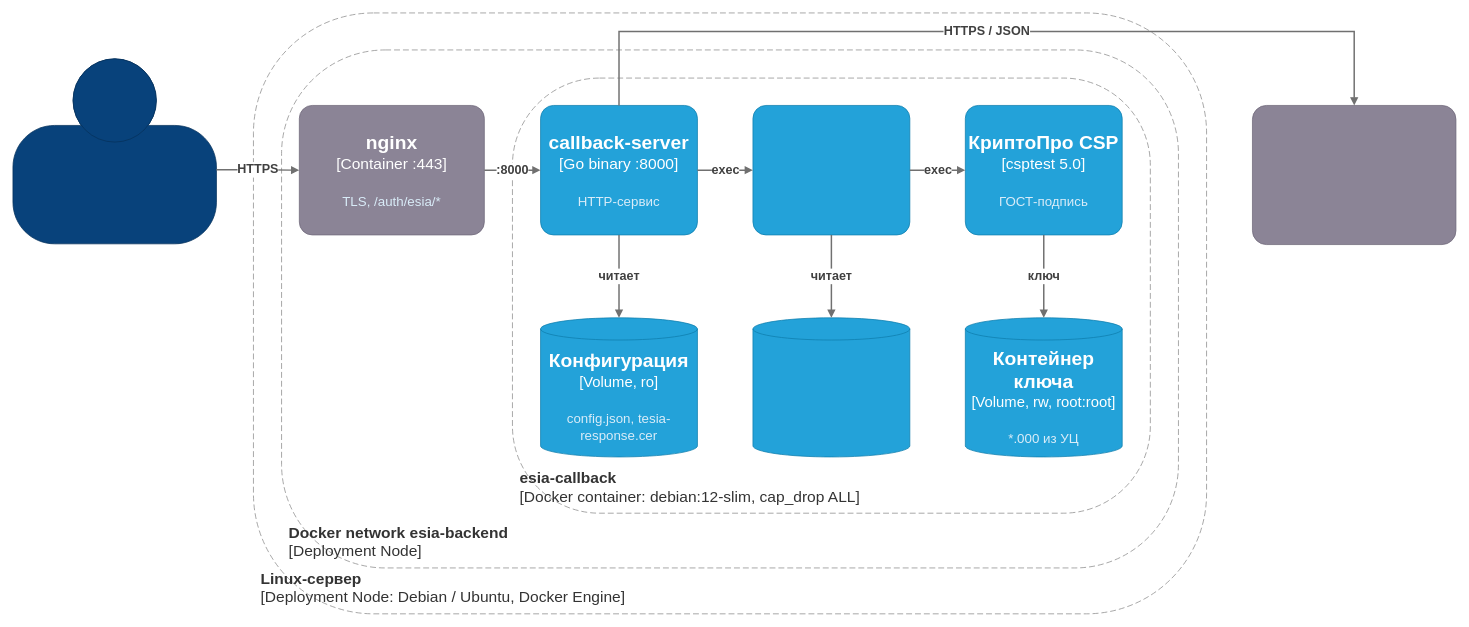
Image size: 1469x627. Some labels were removed from this diagram. Here are the shapes that lost their labels. From the top down, the centre of each, then its label:
[114,151]: Пользователь [Person] Браузер
[831,170]: csptest-wrapper [Shell] Подставляет PIN
[1354,175]: ЕСИА [Software System] Тестовый или боевой контур
[831,387]: csp-pin [Volume, ro] PIN контейнера ключа
